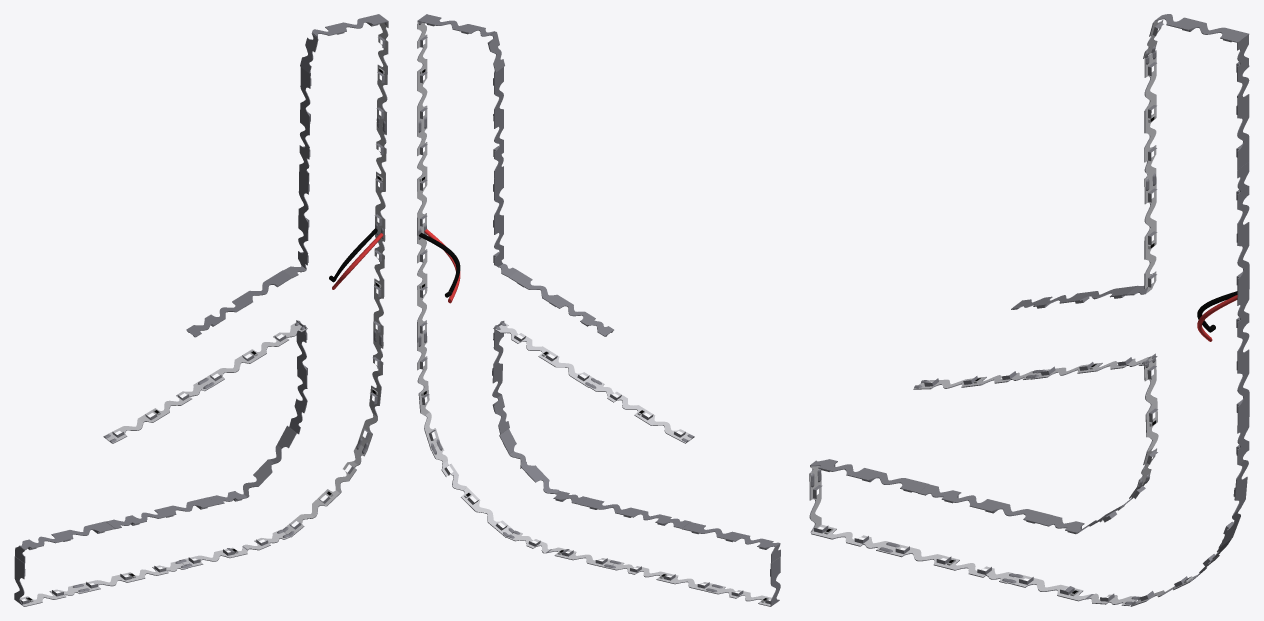
Rendered from fixedled.glb.
The picture shows the model from 3 angles, left to right: view 1: azimuth 30°, elevation 25°; view 2: azimuth 150°, elevation 25°; view 3: azimuth 330°, elevation 25°; orthographic projection. The views are drawn at different scales.
Parts seen in each view (by area): view 1: FIXED-LED; view 2: FIXED-LED; view 3: FIXED-LED.
Boxes of the visible parts, bbox=[...] form: FIXED-LED: bbox=[14, 14, 388, 606]; FIXED-LED: bbox=[417, 14, 780, 606]; FIXED-LED: bbox=[809, 14, 1249, 606].
Size of the model in its own units: 36.47 by 48.55 by 3.31.
